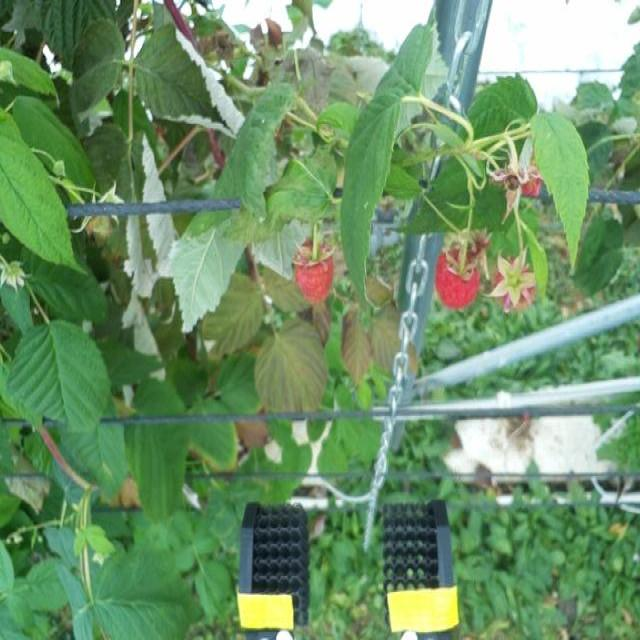Riped berries: (433, 242, 481, 310), (296, 234, 340, 302), (492, 253, 538, 314), (518, 162, 553, 204)
